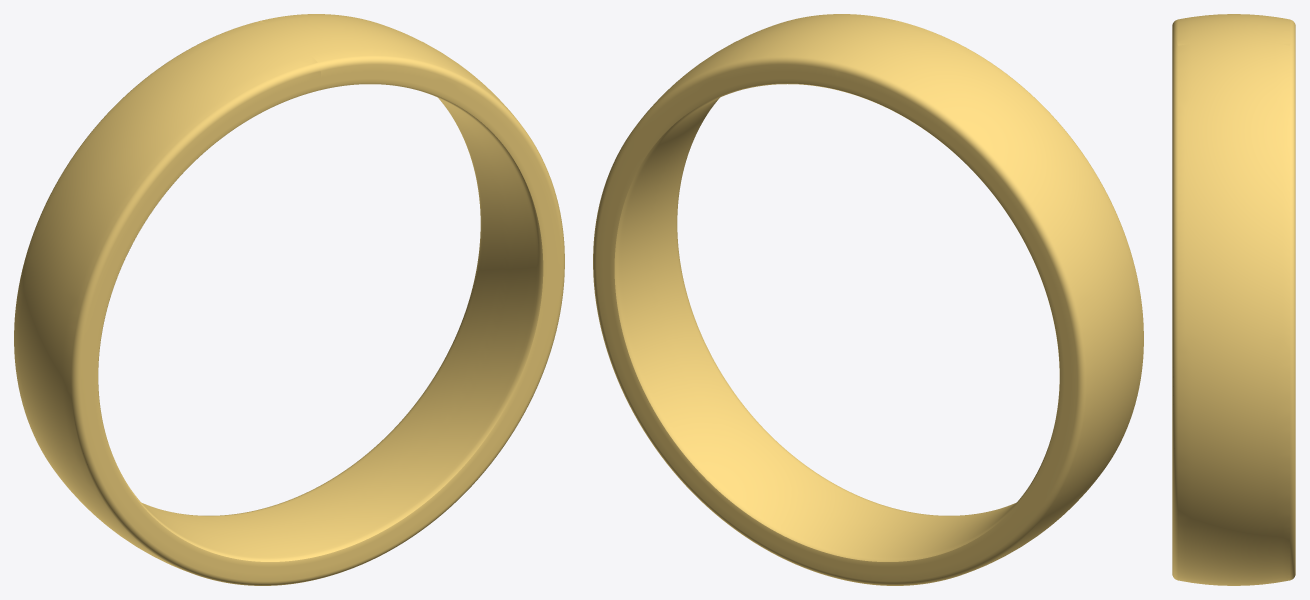
The model's file is MattYGmatte_blender.glb.
3 views of the same model, side by side, from view 1: azimuth 30°, elevation 25°; view 2: azimuth 150°, elevation 25°; view 3: azimuth 270°, elevation 25° (orthographic).
Parts seen in each view (by area): view 1: Matt YG for 3d model; view 2: Matt YG for 3d model; view 3: Matt YG for 3d model.
Part boxes in pixels (x1,y1,x2,y2): Matt YG for 3d model: [14, 14, 564, 585]; Matt YG for 3d model: [593, 14, 1143, 585]; Matt YG for 3d model: [1172, 14, 1295, 585].
Bounding box in the file's own units: 23.62 × 23.62 × 5.1.
